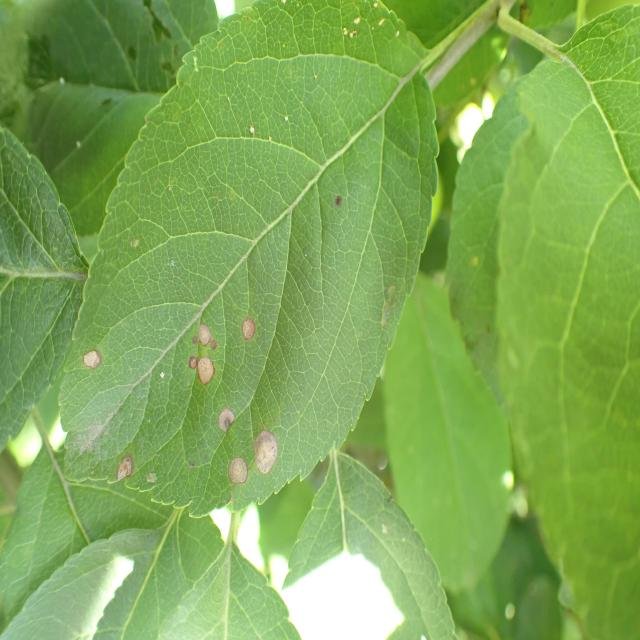Black Rot: (188, 300, 220, 399), (250, 427, 295, 478), (69, 332, 107, 382), (107, 437, 139, 494), (223, 440, 248, 510), (231, 312, 267, 353), (208, 403, 249, 435)
